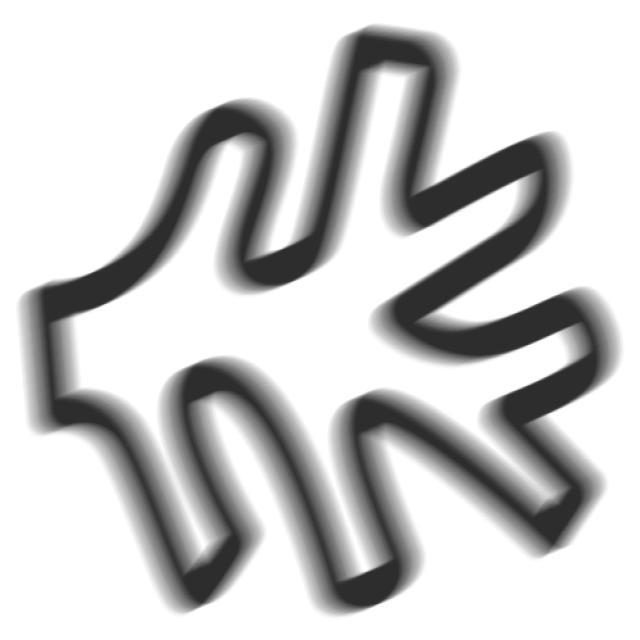coral: (7, 18, 635, 635)
